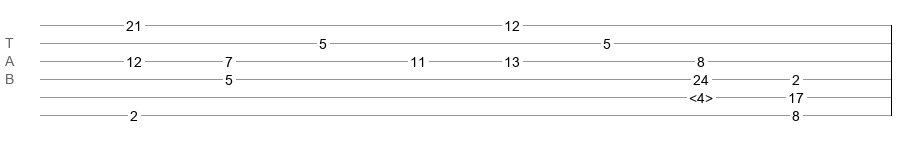11: (410, 54, 426, 64)
12: (126, 54, 142, 64), (504, 18, 520, 28)
13: (504, 54, 520, 64)
17: (788, 90, 804, 100)
2: (130, 108, 138, 118), (792, 72, 800, 82)
21: (126, 18, 142, 28)
24: (693, 72, 709, 82)
5: (225, 72, 233, 82), (319, 36, 327, 46), (603, 36, 611, 46)
7: (225, 54, 233, 64)
8: (697, 54, 705, 64), (792, 108, 800, 118)
harmonic: (689, 90, 713, 100)
